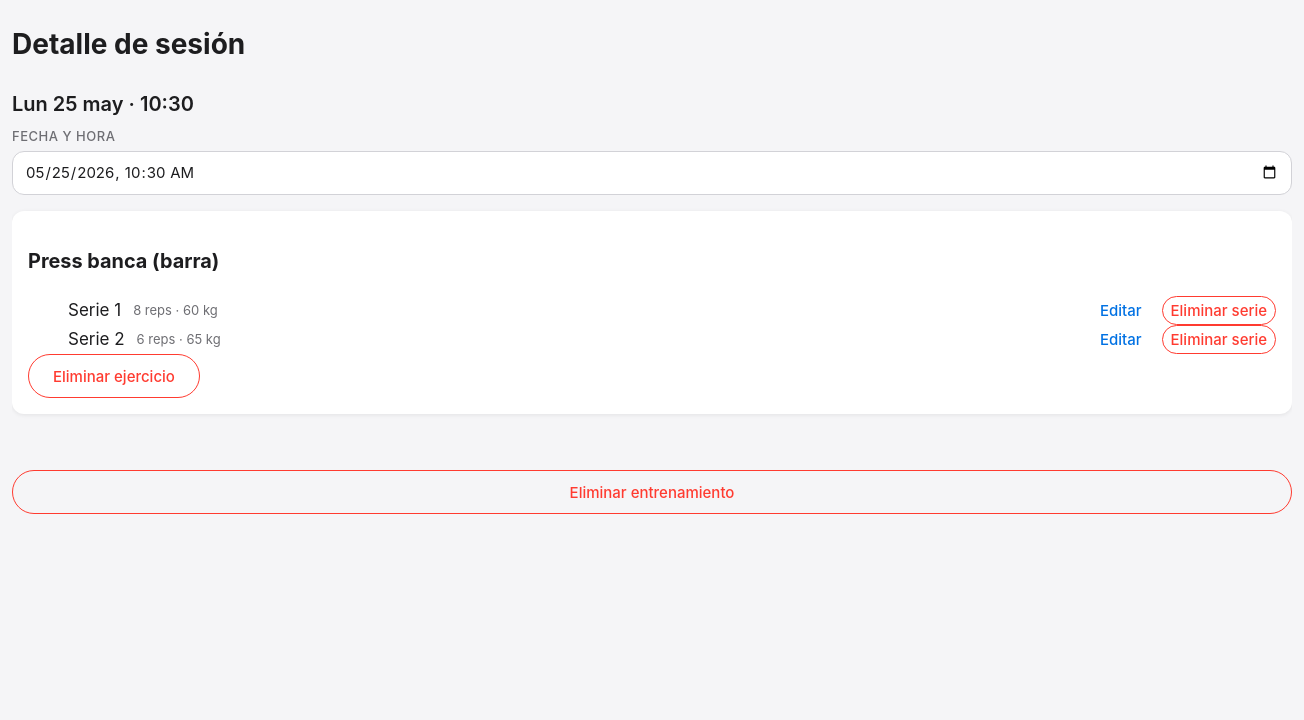
it: <SessionDetail /> edit a set (T043) › opens the form with the current values prefilled when "Editar" is clicked on a set
The width and height of the screenshot is (1304, 720).
Expected: the heading "Press banca (barra)" is shown, [28, 249, 219, 273]
Step 1. Click the button "Editar" in the row of "8 reps · 60 kg" → (1121, 311), box [1092, 297, 1150, 324]
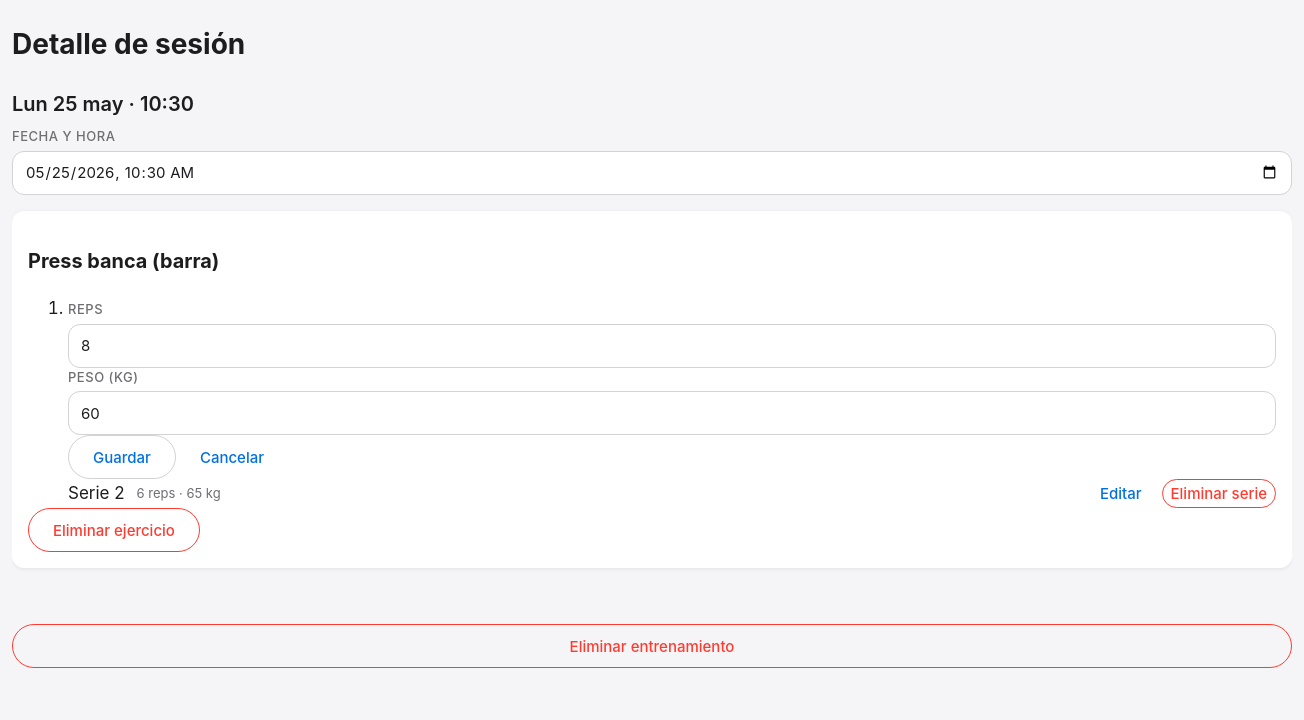
Expected: the number field labelled "Reps" holds "8", [68, 324, 1276, 368]
Expected: the number field labelled "Peso (kg)" holds "60", [68, 391, 1276, 435]
